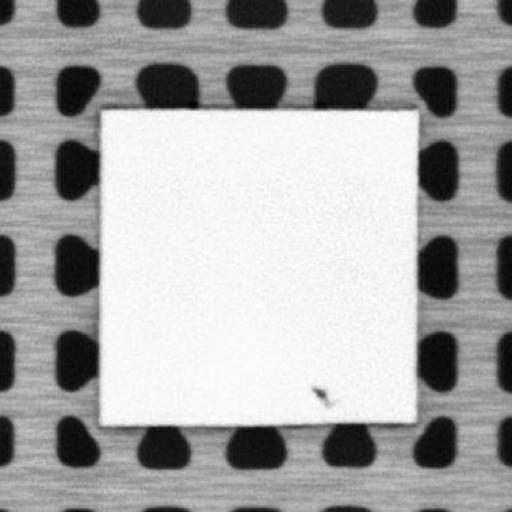DIE_INK: (309, 382, 328, 407)
